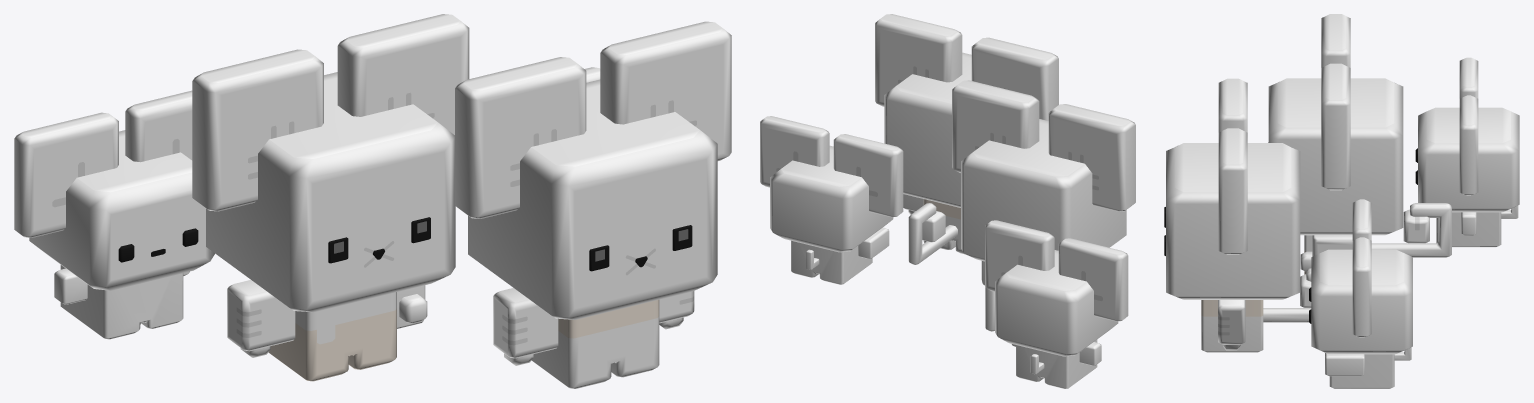
Rendered from model_shiny.obj.
3 renders of one model, left to right at view 1: azimuth 30°, elevation 25°; view 2: azimuth 150°, elevation 25°; view 3: azimuth 270°, elevation 25°, orthographic. The views are drawn at different scales.
Visible parts, largest first — view 1: 0925_maushold_shiny; view 2: 0925_maushold_shiny; view 3: 0925_maushold_shiny.
Boxes of the visible parts, <box> form: 0925_maushold_shiny: <box>14,14,731,388</box>; 0925_maushold_shiny: <box>760,14,1135,388</box>; 0925_maushold_shiny: <box>1164,14,1519,388</box>.
Size of the model in its own units: 2.95 by 1.4 by 2.08.
Materials: 1 (1 with a texture image).
